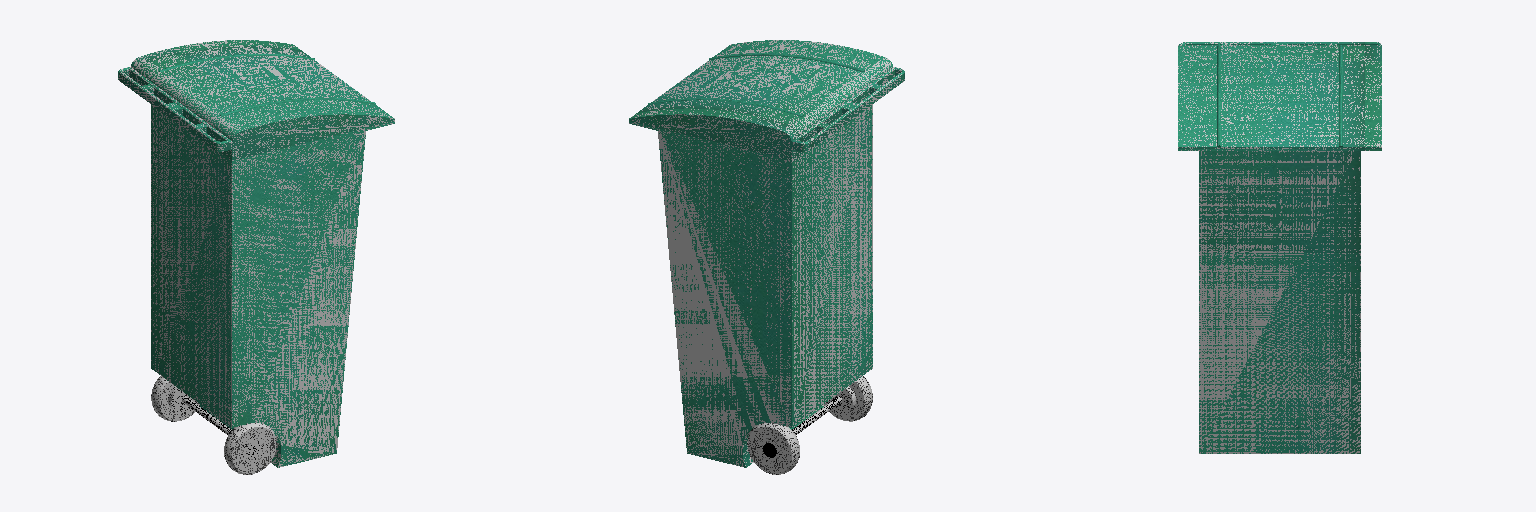
3 renders of one model, left to right at view 1: azimuth 30°, elevation 25°; view 2: azimuth 150°, elevation 25°; view 3: azimuth 270°, elevation 25°, orthographic.
Parts seen in each view (by area): view 1: mesh1_mesh1-geometry, mesh2_mesh2-geometry; view 2: mesh1_mesh1-geometry, mesh2_mesh2-geometry; view 3: mesh1_mesh1-geometry.
Boxes of the visible parts, <box> form: mesh1_mesh1-geometry: <box>118,40,394,467</box>; mesh2_mesh2-geometry: <box>151,376,276,474</box>; mesh1_mesh1-geometry: <box>629,40,904,467</box>; mesh2_mesh2-geometry: <box>747,376,872,474</box>; mesh1_mesh1-geometry: <box>1178,42,1381,453</box>.
Size of the model in its own units: 0.4178 by 0.8093 by 0.4129.
Materials: 8 (3 with a texture image).